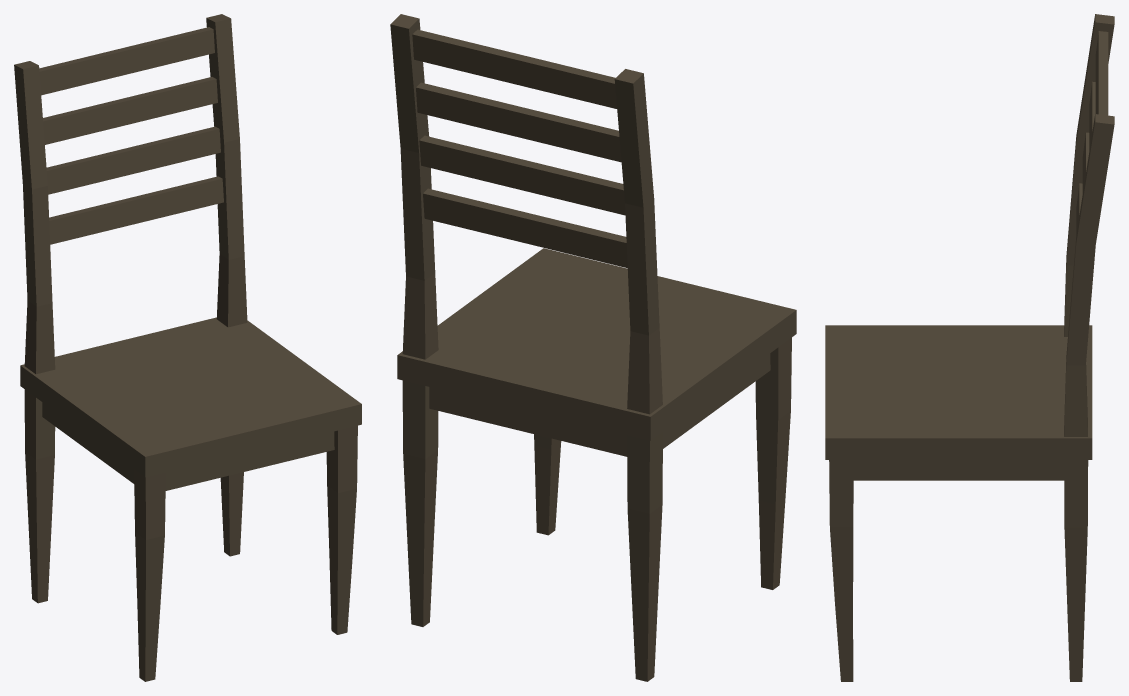
Rendered from cafe-chair.glb.
The picture shows the model from 3 angles, left to right: view 1: azimuth 30°, elevation 25°; view 2: azimuth 150°, elevation 25°; view 3: azimuth 270°, elevation 25°; orthographic projection. The views are drawn at different scales.
Visible parts, largest first — view 1: Chair_1_Cube.004; view 2: Chair_1_Cube.004; view 3: Chair_1_Cube.004.
Part boxes in pixels (x1,y1,x2,y2): Chair_1_Cube.004: [14, 14, 361, 681]; Chair_1_Cube.004: [390, 14, 796, 681]; Chair_1_Cube.004: [825, 14, 1114, 681].
Size of the model in its own units: 0.7617 by 1.77 by 0.8254.
